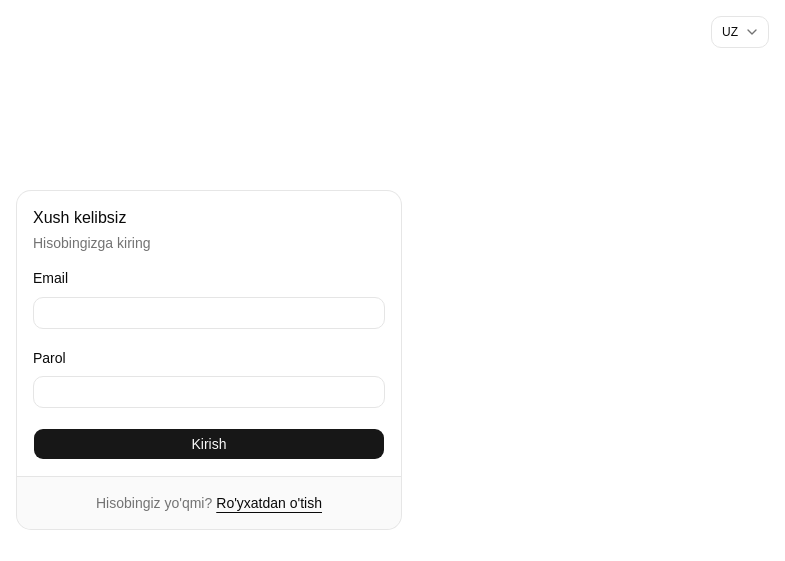
Test: sign-in form › shows a server field error next to its input in Uzbek
Type "user@example.com" into the field labelled "Email" at (209, 312), box [33, 296, 385, 328]
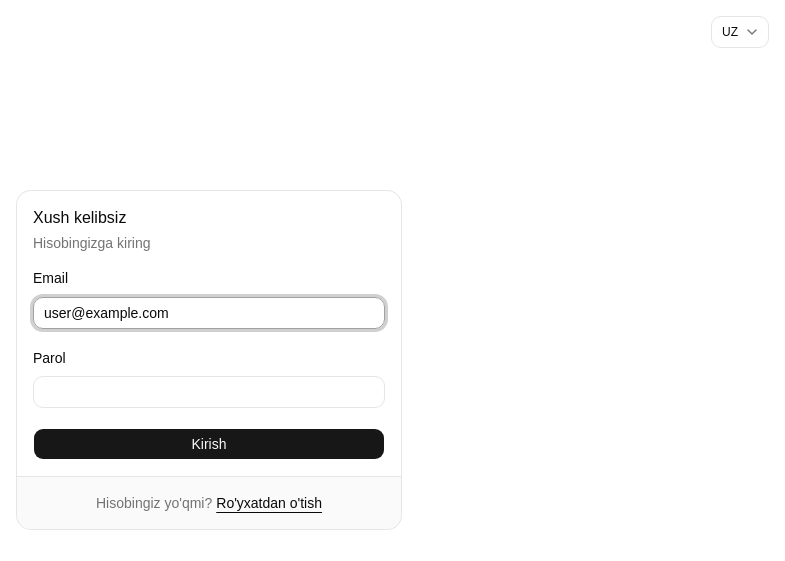
Type "correct-horse" into the password field labelled "Parol" at (209, 392), box [33, 376, 385, 408]
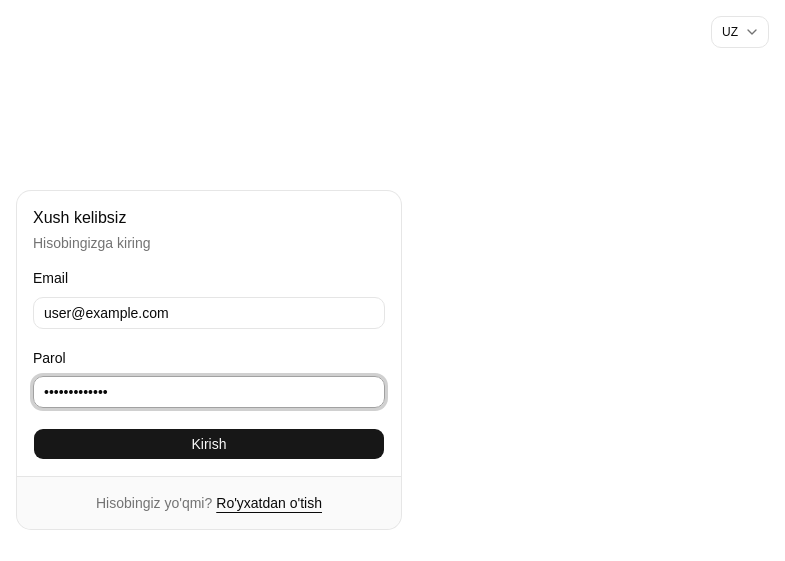
Click the button "Kirish" at (209, 444), box [33, 428, 385, 460]
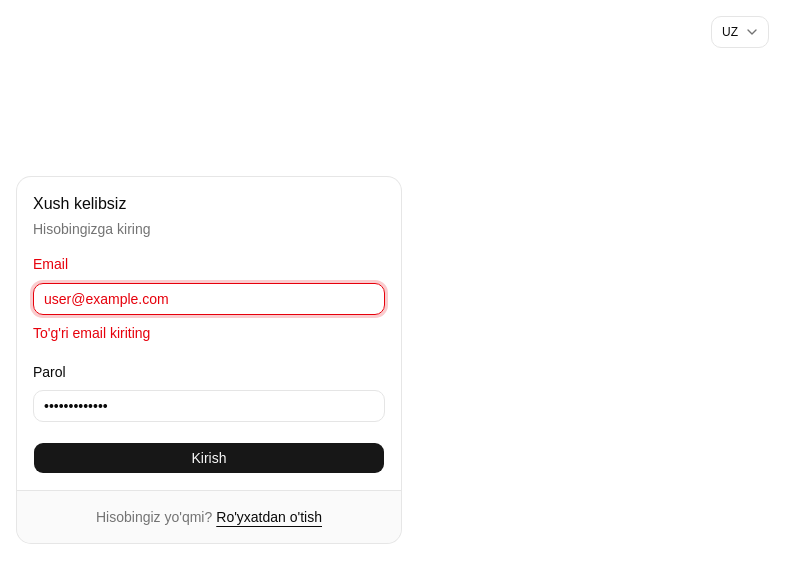
Check: the message "To'g'ri email kiriting" is shown, box [33, 324, 150, 340]
